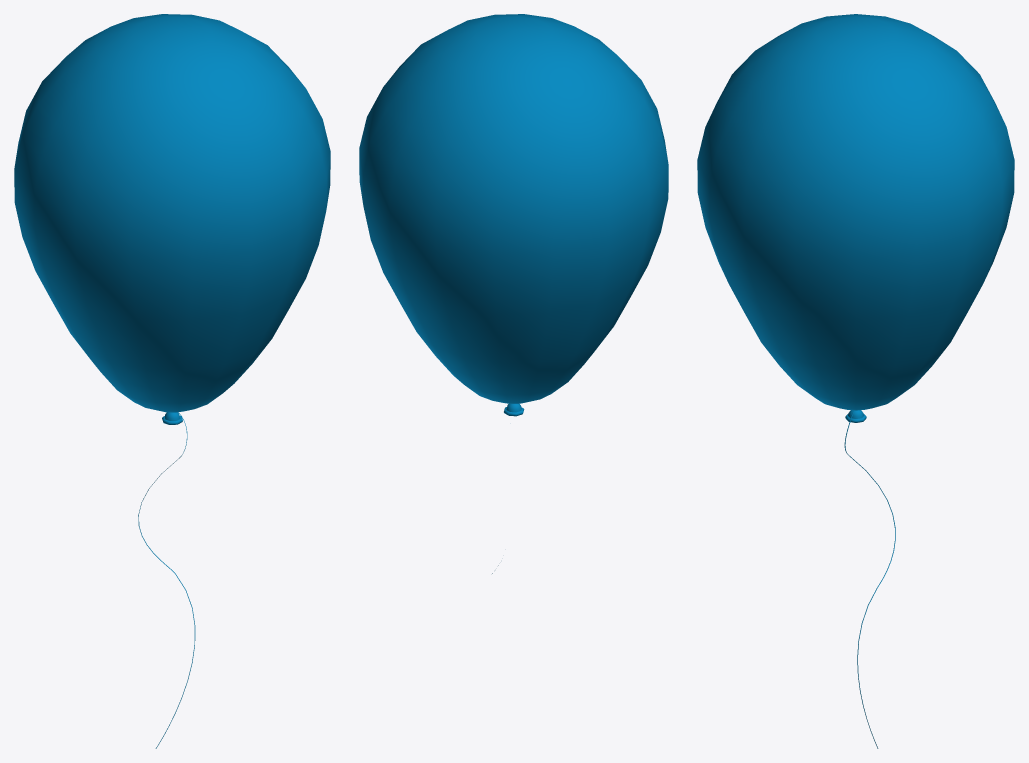
The model's file is Balloon.glb.
The picture shows the model from 3 angles, left to right: view 1: azimuth 30°, elevation 25°; view 2: azimuth 150°, elevation 25°; view 3: azimuth 270°, elevation 25°; orthographic projection. The views are drawn at different scales.
Parts seen in each view (by area): view 1: Balloon.007; view 2: Balloon.007; view 3: Balloon.007.
Boxes of the visible parts, box(x1,y1,x2,y2) form: Balloon.007: box(14, 14, 330, 748); Balloon.007: box(359, 14, 668, 573); Balloon.007: box(697, 14, 1014, 748).
Bounding box in the file's own units: 0.2648 × 0.664 × 0.2648.
